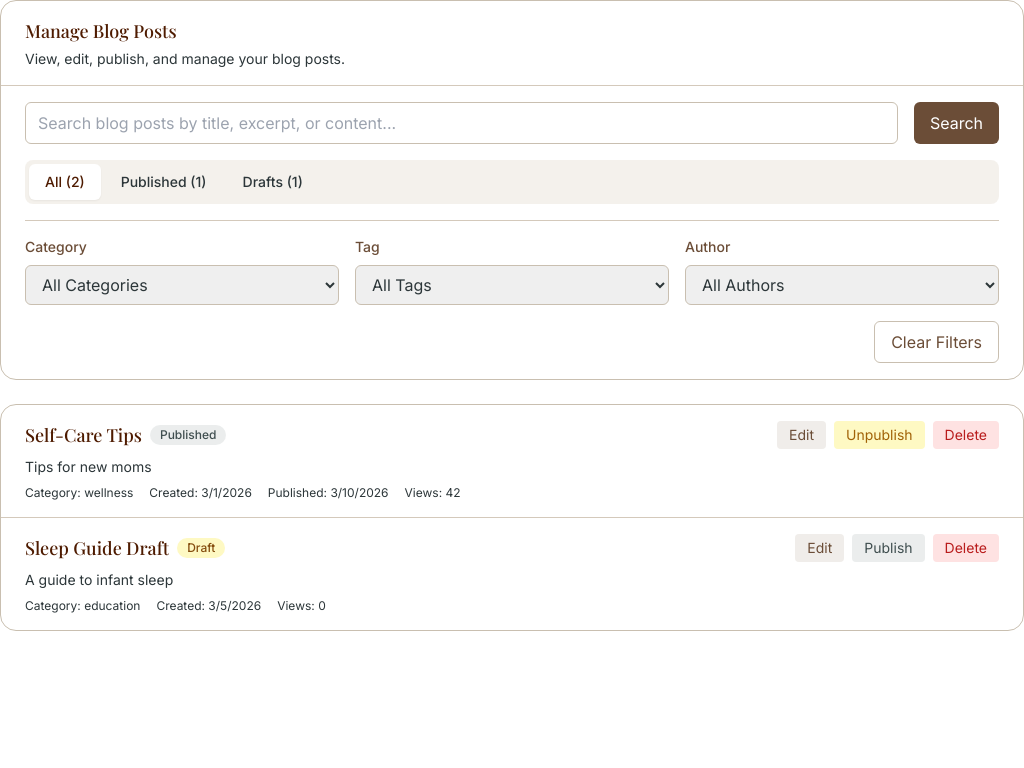
it: BlogManagement › filters by drafts tab
expect the heading "Self-Care Tips" is shown: met, box [25,421,142,449]
Step 1. Click the button "Drafts (1)" → (273, 182), box [226,164,319,200]
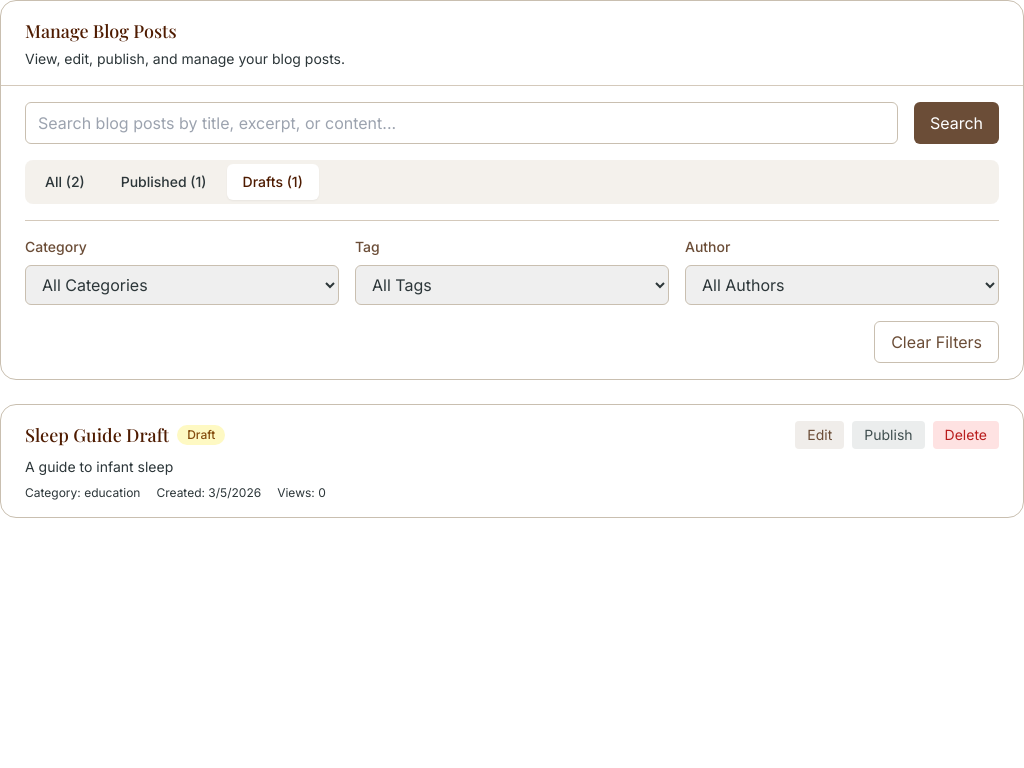
expect the heading "Sleep Guide Draft" is shown: met, box [25,421,169,449]
expect the heading "Self-Care Tips" is gone: met
